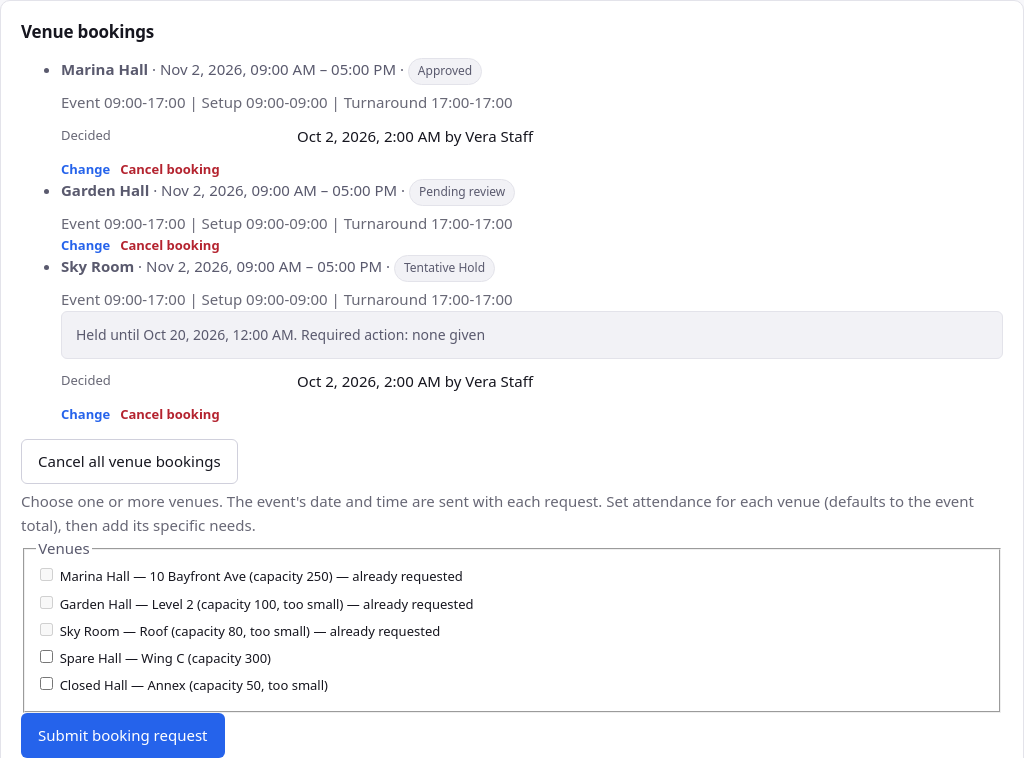
Test: SCRUM-96 AC2 - the change form › opens on the booking, with its venue and what is needed already filled in
The image size is (1024, 758).
Expected: the text "Marina Hall" is shown, [61,59,148,79]
What coordinates should you click on to do the following:
click the button with aria-label "Change Marina Hall booking"
I would click on:
 (86, 169)
Its box is [61,159,110,179].
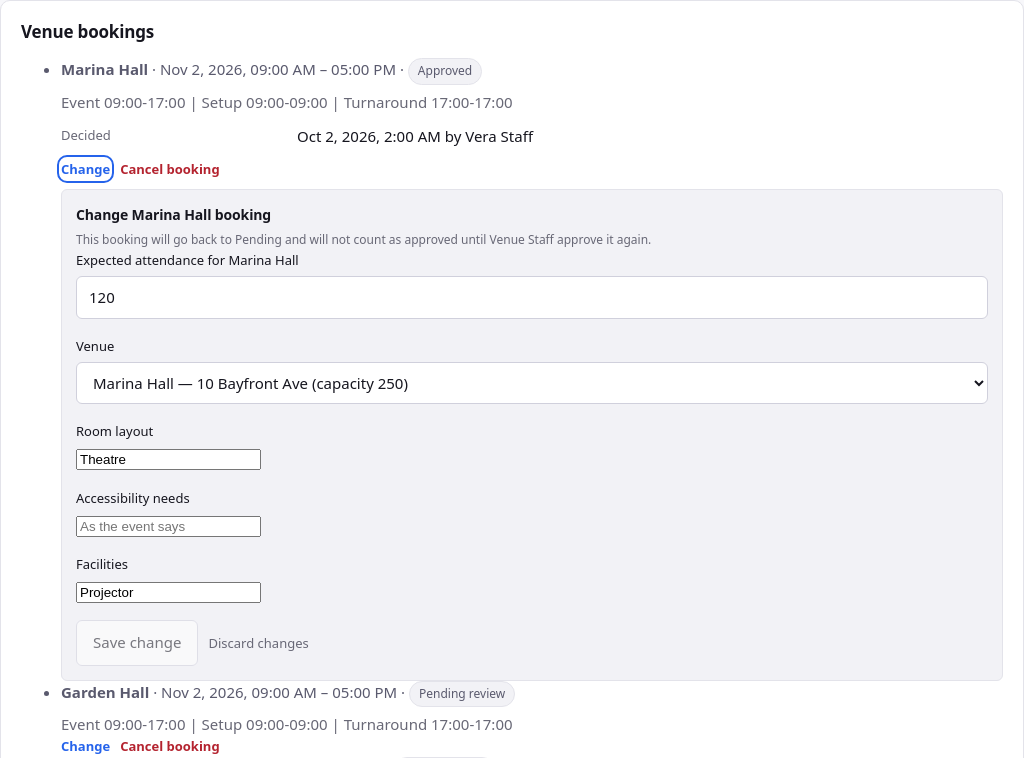
Result: the dropdown labelled "Venue" shows "Marina Hall — 10 Bayfront Ave (capacity 250)" at [76,362,988,404]
Result: the field labelled "Room layout" holds "Theatre" at [76,449,261,470]
Result: the field labelled "Accessibility needs" is empty at [76,516,261,537]
